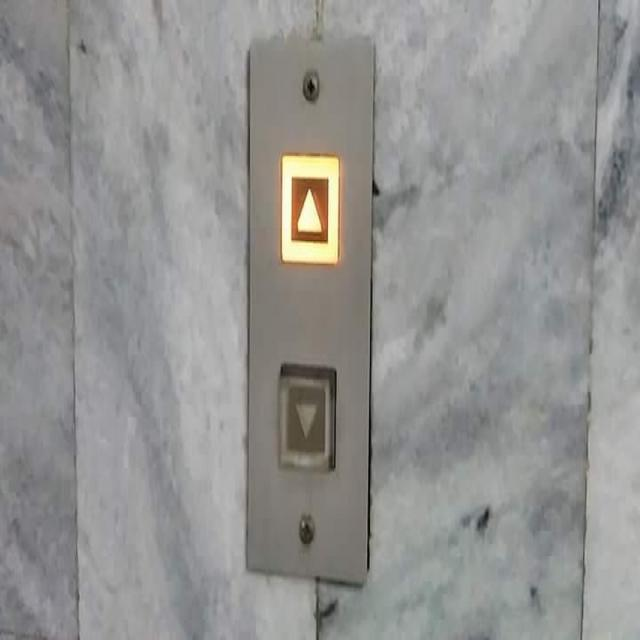down: (276, 364, 337, 479)
up: (278, 153, 339, 268)
